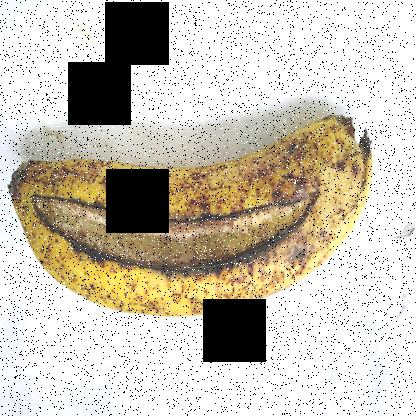rotten: (15, 174, 328, 296), (323, 106, 408, 204)
